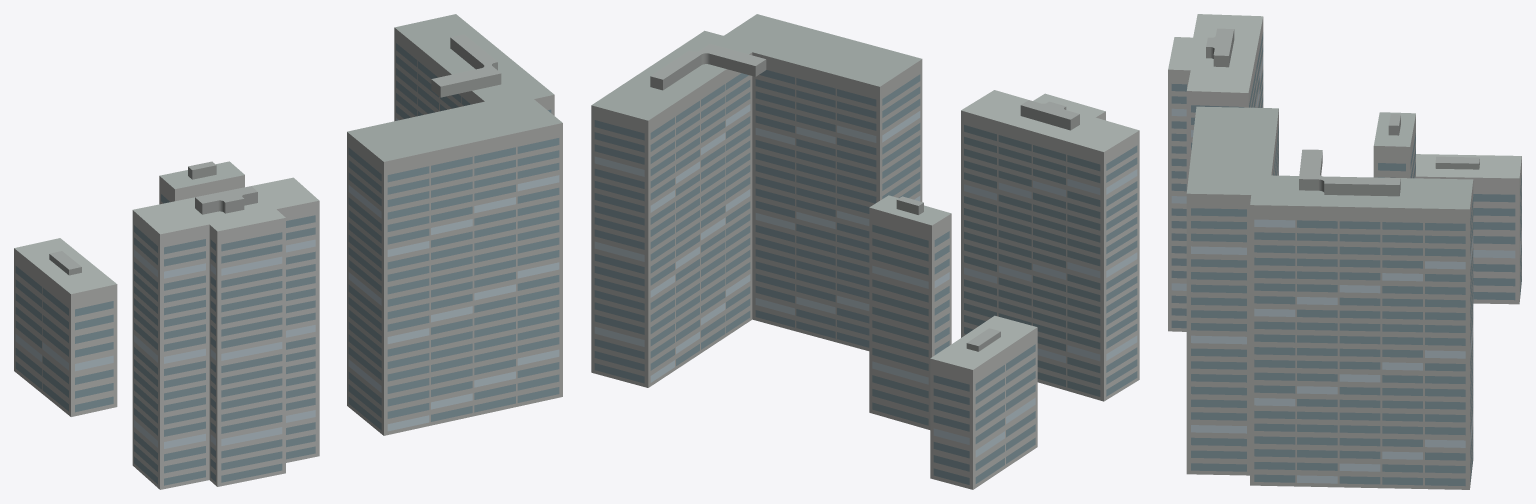
File: apt-a13123101.glb
3 views of the same model, side by side, from view 1: azimuth 30°, elevation 25°; view 2: azimuth 150°, elevation 25°; view 3: azimuth 270°, elevation 25° (orthographic). The views are drawn at different scales.
Parts seen in each view (by area): view 1: apt-a13123101; view 2: apt-a13123101; view 3: apt-a13123101.
Part boxes in pixels (bbox=[...]): apt-a13123101: bbox=[14, 14, 562, 489]; apt-a13123101: bbox=[591, 14, 1139, 489]; apt-a13123101: bbox=[1168, 14, 1521, 489].
Bounding box in the file's own units: 97.63 × 62 × 68.13.
